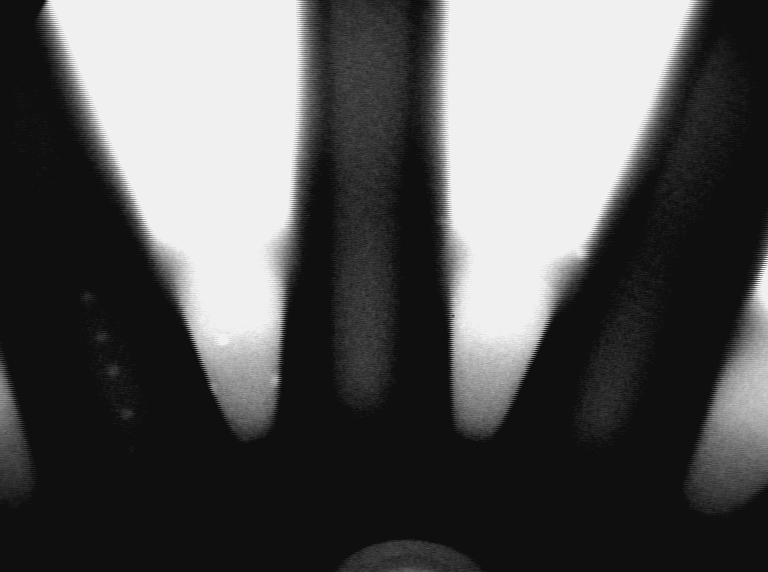defect: (119, 406, 139, 423)
